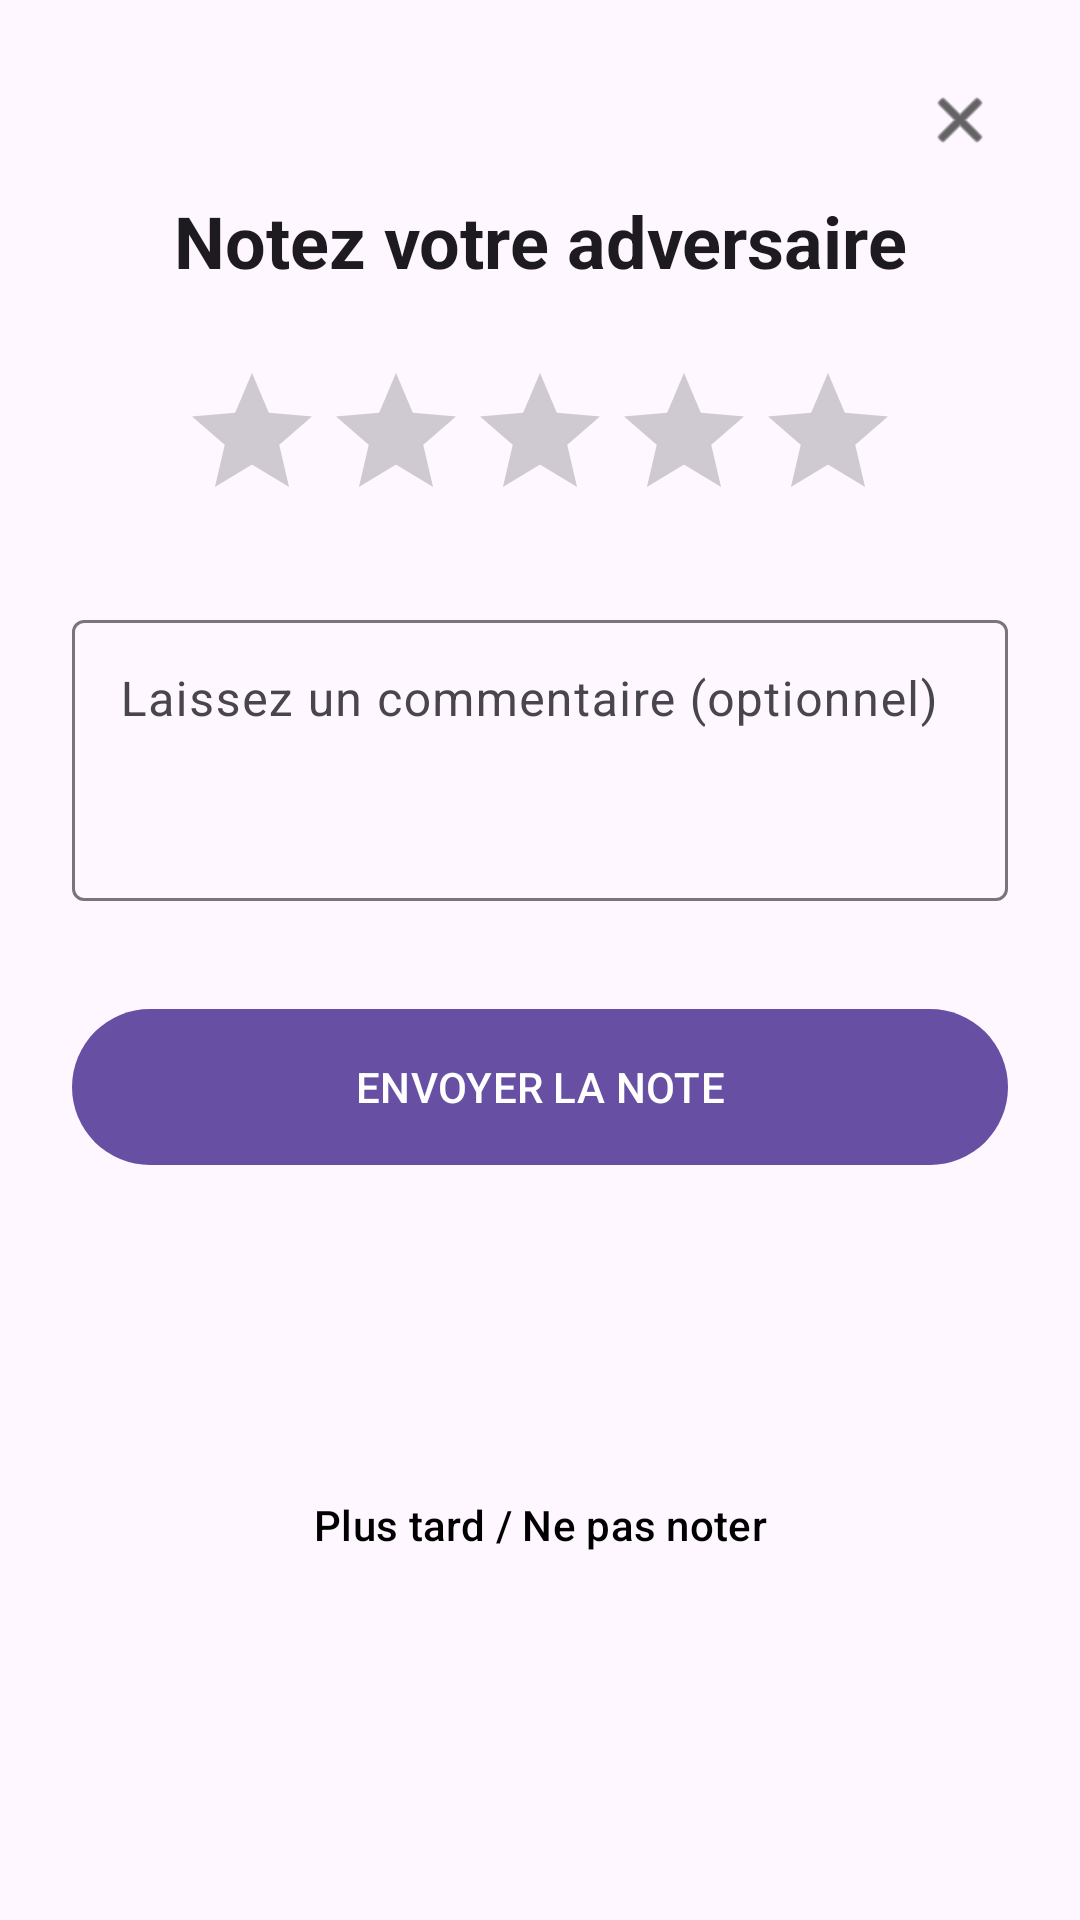

Locate icon controls on the screen. Image size 1080w x 1920h, boxes as rect(x1, y1, x2, y2).
close clear cancel: rect(937, 97, 983, 143)
